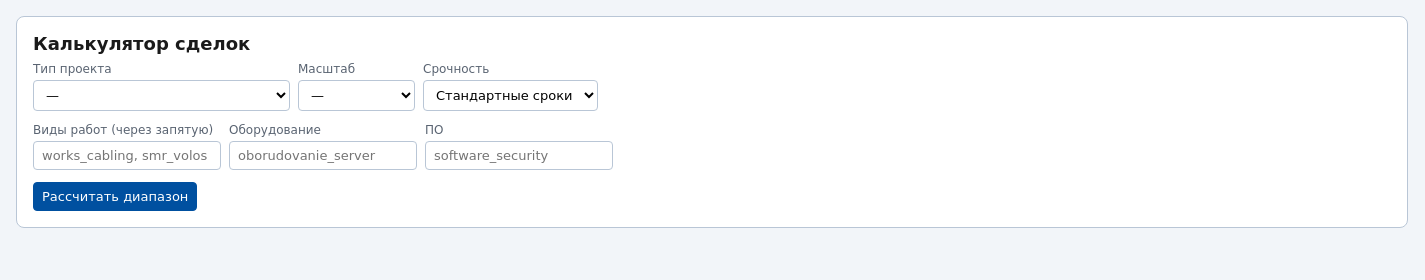
Scenario: форма калькулятора › показывает валидацию обязательных полей без запроса в API
The image size is (1425, 280).
What coordinates should you click on to do the following:
click the button "Рассчитать диапазон"
I would click on:
 (115, 196)
Its box is [33,182,197,211].
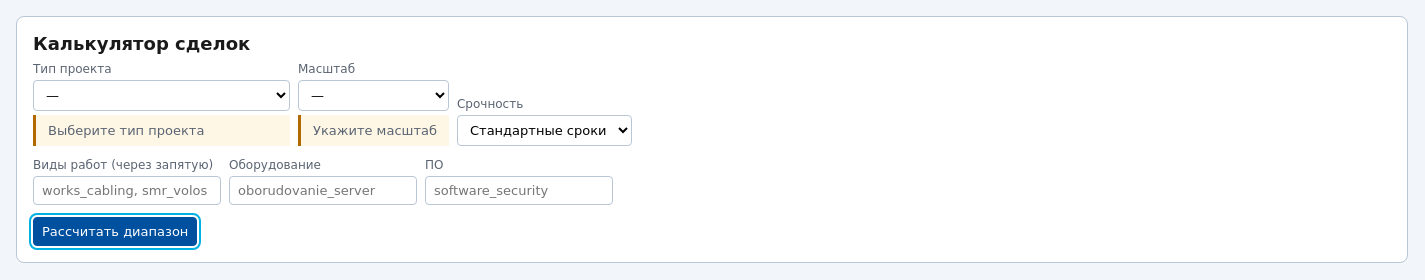
Check: the text "Выберите тип проекта" is shown, box [33,115,290,146]
Check: the text "Укажите масштаб" is shown, box [298,115,449,146]
